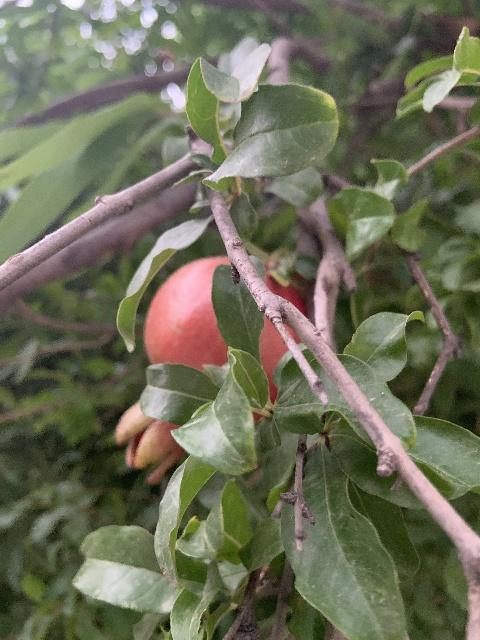ripe: (115, 255, 305, 484)
